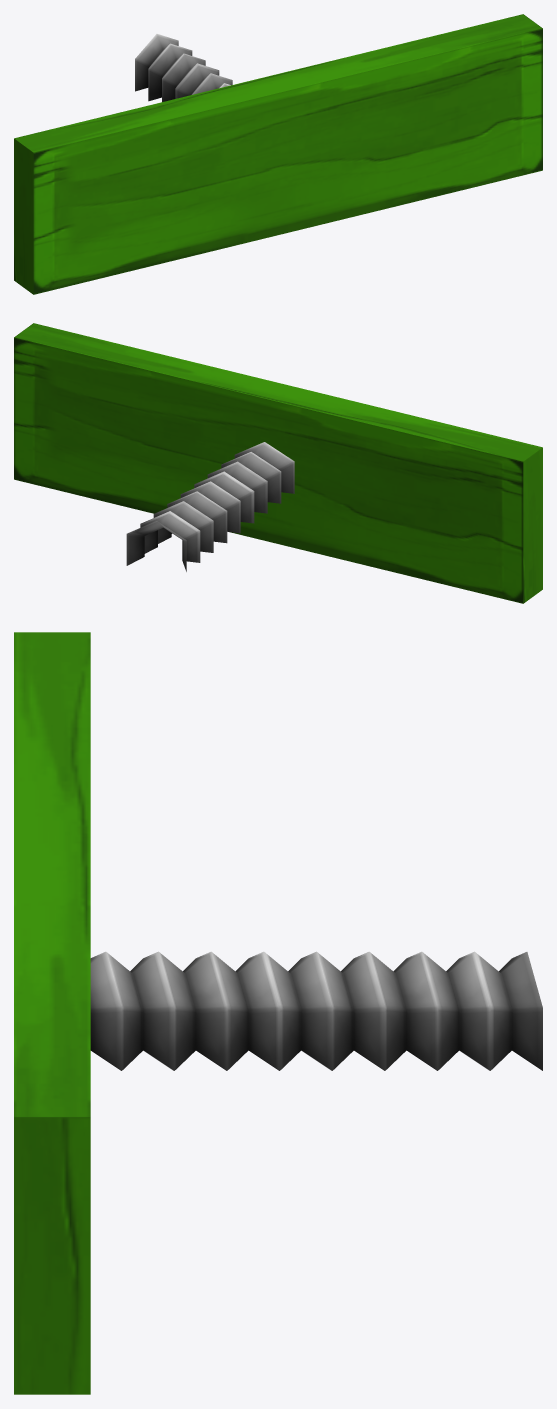
The model's file is wall_green_02.fbx.
3 renders of one model, top to bottom at view 1: azimuth 30°, elevation 25°; view 2: azimuth 150°, elevation 25°; view 3: azimuth 270°, elevation 25°, orthographic. The views are drawn at different scales.
Visible parts, largest first — view 1: wall_2, spring_1; view 2: wall_2, spring_1; view 3: wall_2, spring_1.
Boxes of the visible parts, <box> form: wall_2: <box>14,14,542,294</box>; spring_1: <box>135,34,232,101</box>; wall_2: <box>14,323,542,603</box>; spring_1: <box>126,442,294,571</box>; wall_2: <box>14,632,90,1394</box>; spring_1: <box>90,951,542,1070</box>.
Size of the model in its own units: 150 by 40 by 69.12.
